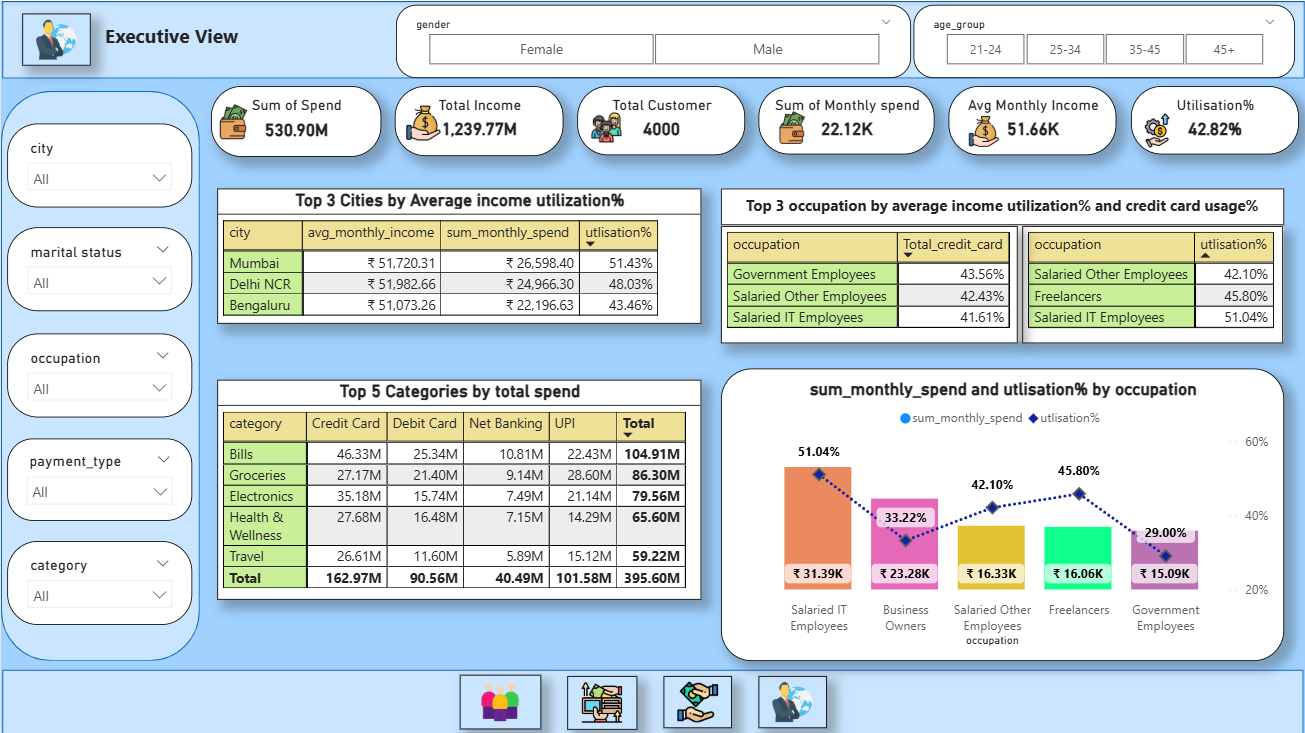

The page's visual inventory and layout, read from the dashboard file:
{"tool":"powerbi","page":{"name":"executive view","canvas":[1280,720],"ordinal":4},"visuals":[{"type":"shape","box":[1.2,0,1278.5,76.1],"z":0,"group":"g4"},{"type":"image","box":[20.9,12.3,67.5,51.5],"z":0,"group":"g5"},{"type":"card","title":"Total Customer","fields":{"Values":["dim_customers.Count_customer"]},"box":[565.2,83.4,165,68],"z":0,"group":"g8"},{"type":"shape","box":[0,88.3,195.1,559.5],"z":0,"group":"g3"},{"type":"shape","box":[1.2,656.2,1277.3,63.8],"z":0,"group":"g1"},{"type":"group","id":"g1","title":"Group 9","box":[1.2,656.2,1277.3,63.8],"z":500},{"type":"textbox","box":[97,16,141.1,47.9],"z":1000,"group":"g5"},{"type":"group","id":"g2","title":"Group 2","box":[0,88.3,195.1,559.5],"z":1000},{"type":"group","id":"g3","title":"Group 6","box":[0,88.3,195.1,559.5],"z":1000,"group":"g2"},{"type":"image","box":[573.5,97.4,40.5,54],"z":1000,"group":"g8"},{"type":"slicer","fields":{"Values":["dim_customers.city"]},"box":[6.1,120.2,181.6,82.2],"z":1000,"group":"g3"},{"type":"group","id":"g4","title":"Group 5","box":[1.2,0,1278.5,76.1],"z":2000},{"type":"slicer","fields":{"Values":["dim_customers.marital status"]},"box":[6.1,222,181.6,82.2],"z":2000,"group":"g3"},{"type":"image","box":[450.3,661.6,79.8,54],"z":2000,"group":"g1"},{"type":"group","id":"g5","title":"Group 1","box":[20.9,12.3,217.2,51.5],"z":3000},{"type":"slicer","fields":{"Values":["dim_customers.occupation"]},"box":[6.1,326.3,181.6,82.2],"z":3000,"group":"g3"},{"type":"image","box":[650.3,662.8,67.5,51.5],"z":3000,"group":"g1"},{"type":"group","id":"g6","title":"Group 3","box":[206.1,83.4,166.9,69.9],"z":4000},{"type":"card","title":"Total Income","fields":{"Values":["dim_customers.total_amount_spend"]},"box":[386.3,83.4,165.6,68.7],"z":4000,"group":"g7"},{"type":"slicer","fields":{"Values":["fact_spends.payment_type"]},"box":[6.1,429.4,181.6,81],"z":4000,"group":"g2"},{"type":"slicer","fields":{"Values":["fact_spends.category"]},"box":[6.1,530,181.6,82.2],"z":4000,"group":"g3"},{"type":"image","box":[743.5,662.8,67.5,51.5],"z":4000,"group":"g1"},{"type":"card","title":"Sum of Spend","fields":{"Values":["Sum(fact_spends.spend)"]},"box":[206.1,83.4,166.9,69.9],"z":5000,"group":"g6"},{"type":"group","id":"g7","title":"Group 7","box":[386.3,83.4,165.6,68.7],"z":5000},{"type":"group","id":"g8","title":"Group 8","box":[565.2,83.4,165.6,67.5],"z":6000},{"type":"card","title":"Sum of Monthly spend","fields":{"Values":["dim_customers.sum_monthly_spend"]},"box":[744.1,83.4,173,67.5],"z":6000,"group":"g11"},{"type":"image","box":[555.8,662.2,68.7,52.8],"z":6000,"group":"g1"},{"type":"group","id":"g9","title":"Group 4","box":[930.3,83.4,165.6,68.7],"z":7000},{"type":"card","title":"Avg Monthly Income","fields":{"Values":["dim_customers.avg_monthly_income"]},"box":[930.3,83.4,165,68],"z":7000,"group":"g9"},{"type":"group","id":"g10","title":"Group 10","box":[1109.2,83.4,164.4,67.5],"z":8000},{"type":"group","id":"g11","title":"Group 9","box":[744.1,83.4,173,67.5],"z":9000},{"type":"card","title":"Utilisation%","fields":{"Values":["fact_spends.utlisation%"]},"box":[1109.2,83.4,164.4,67.5],"z":9000,"group":"g10"},{"type":"pivotTable","title":"Top 3 Cities by Average income utilization%","fields":{"Rows":["dim_customers.city"],"Values":["dim_customers.avg_monthly_income","dim_customers.sum_monthly_spend","fact_spends.utlisation%"]},"box":[212.5,183.8,475,132.5],"z":10000},{"type":"pivotTable","title":"Top 5 Categories by total spend","fields":{"Rows":["fact_spends.category"],"Columns":["fact_spends.payment_type"],"Values":["Sum(fact_spends.spend)"]},"box":[212.5,371.2,475,216.2],"z":11000},{"type":"pivotTable","fields":{"Rows":["dim_customers.occupation"],"Values":["fact_spends.utlisation%"]},"box":[1002.4,220,256.2,115],"z":12000,"group":"g12"},{"type":"pivotTable","fields":{"Rows":["dim_customers.occupation"],"Values":["fact_spends.Total_credit_card"]},"box":[706.2,220,291.2,115],"z":13000,"group":"g12"},{"type":"slicer","fields":{"Values":["dim_customers.gender"]},"box":[387.7,3.7,505.5,72.4],"z":14000,"group":"g4"},{"type":"lineStackedColumnComboChart","fields":{"Category":["dim_customers.occupation"],"Y":["dim_customers.sum_monthly_spend"],"Y2":["fact_spends.utlisation%"]},"box":[706.2,361.2,552.5,287.5],"z":14000},{"type":"image","box":[206.1,95.7,44.2,45.4],"z":14001,"group":"g6"},{"type":"image","box":[756.1,102,41.7,45.4],"z":14003,"group":"g11"},{"type":"image","box":[392.4,96.9,44.2,45.4],"z":14005,"group":"g7"},{"type":"image","box":[944.5,105.1,40.5,44.2],"z":14007,"group":"g9"},{"type":"image","box":[1113.1,104.9,44.2,45.4],"z":14009,"group":"g10"},{"type":"slicer","fields":{"Values":["dim_customers.age_group"]},"box":[895.7,3.7,374.2,72.4],"z":15000,"group":"g4"},{"type":"textbox","box":[706.2,183.8,552.5,36.2],"z":15000,"group":"g12"},{"type":"group","id":"g12","title":"Group 11","box":[706.2,183.8,552.5,151.2],"z":15001}]}

Visuals, with their boxes in screenshot pixels (x1, y1, x2, y2), scaled from the page's 1280x720 canvas onto the 1305x733 screenshot:
shape: {"x1": 1, "y1": 0, "x2": 1304, "y2": 77}
image: {"x1": 21, "y1": 13, "x2": 90, "y2": 65}
"Total Customer" card: {"x1": 576, "y1": 85, "x2": 744, "y2": 154}
shape: {"x1": 0, "y1": 90, "x2": 199, "y2": 659}
shape: {"x1": 1, "y1": 668, "x2": 1303, "y2": 732}
"Group 9" group: {"x1": 1, "y1": 668, "x2": 1303, "y2": 732}
textbox: {"x1": 99, "y1": 16, "x2": 243, "y2": 65}
"Group 2" group: {"x1": 0, "y1": 90, "x2": 199, "y2": 659}
"Group 6" group: {"x1": 0, "y1": 90, "x2": 199, "y2": 659}
image: {"x1": 585, "y1": 99, "x2": 626, "y2": 154}
slicer - dim_customers.city: {"x1": 6, "y1": 122, "x2": 191, "y2": 206}
"Group 5" group: {"x1": 1, "y1": 0, "x2": 1304, "y2": 77}
slicer - dim_customers.marital status: {"x1": 6, "y1": 226, "x2": 191, "y2": 310}
image: {"x1": 459, "y1": 674, "x2": 540, "y2": 729}
"Group 1" group: {"x1": 21, "y1": 13, "x2": 243, "y2": 65}
slicer - dim_customers.occupation: {"x1": 6, "y1": 332, "x2": 191, "y2": 416}
image: {"x1": 663, "y1": 675, "x2": 732, "y2": 727}
"Group 3" group: {"x1": 210, "y1": 85, "x2": 380, "y2": 156}
"Total Income" card: {"x1": 394, "y1": 85, "x2": 563, "y2": 155}
slicer - fact_spends.payment_type: {"x1": 6, "y1": 437, "x2": 191, "y2": 520}
slicer - fact_spends.category: {"x1": 6, "y1": 540, "x2": 191, "y2": 623}
image: {"x1": 758, "y1": 675, "x2": 827, "y2": 727}
"Sum of Spend" card: {"x1": 210, "y1": 85, "x2": 380, "y2": 156}
"Group 7" group: {"x1": 394, "y1": 85, "x2": 563, "y2": 155}
"Group 8" group: {"x1": 576, "y1": 85, "x2": 745, "y2": 154}
"Sum of Monthly spend" card: {"x1": 759, "y1": 85, "x2": 935, "y2": 154}
image: {"x1": 567, "y1": 674, "x2": 637, "y2": 728}
"Group 4" group: {"x1": 948, "y1": 85, "x2": 1117, "y2": 155}
"Avg Monthly Income" card: {"x1": 948, "y1": 85, "x2": 1117, "y2": 154}
"Group 10" group: {"x1": 1131, "y1": 85, "x2": 1298, "y2": 154}
"Group 9" group: {"x1": 759, "y1": 85, "x2": 935, "y2": 154}
"Utilisation%" card: {"x1": 1131, "y1": 85, "x2": 1298, "y2": 154}
"Top 3 Cities by Average income utilization%" pivotTable: {"x1": 217, "y1": 187, "x2": 701, "y2": 322}
"Top 5 Categories by total spend" pivotTable: {"x1": 217, "y1": 378, "x2": 701, "y2": 598}
pivotTable - dim_customers.occupation x fact_spends.utlisation%: {"x1": 1022, "y1": 224, "x2": 1283, "y2": 341}
pivotTable - dim_customers.occupation x fact_spends.Total_credit_card: {"x1": 720, "y1": 224, "x2": 1017, "y2": 341}
slicer - dim_customers.gender: {"x1": 395, "y1": 4, "x2": 911, "y2": 77}
lineStackedColumnComboChart - dim_customers.occupation x dim_customers.sum_monthly_spend: {"x1": 720, "y1": 368, "x2": 1283, "y2": 660}
image: {"x1": 210, "y1": 97, "x2": 255, "y2": 144}
image: {"x1": 771, "y1": 104, "x2": 813, "y2": 150}
image: {"x1": 400, "y1": 99, "x2": 445, "y2": 145}
image: {"x1": 963, "y1": 107, "x2": 1004, "y2": 152}
image: {"x1": 1135, "y1": 107, "x2": 1180, "y2": 153}
slicer - dim_customers.age_group: {"x1": 913, "y1": 4, "x2": 1295, "y2": 77}
textbox: {"x1": 720, "y1": 187, "x2": 1283, "y2": 224}
"Group 11" group: {"x1": 720, "y1": 187, "x2": 1283, "y2": 341}
